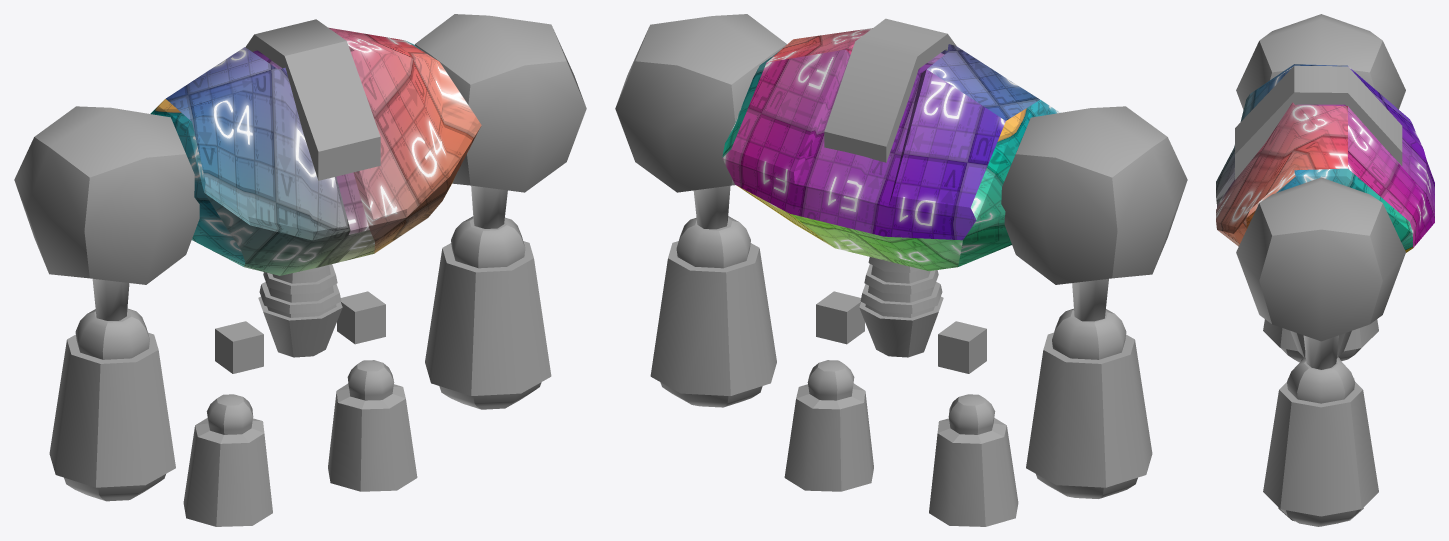
File: Robot-UVs-WIP-01.fbx
3 renders of one model, left to right at view 1: azimuth 30°, elevation 25°; view 2: azimuth 150°, elevation 25°; view 3: azimuth 270°, elevation 25°, orthographic. The views are drawn at different scales.
Parts seen in each view (by area): view 1: R_Shoulder (×2), Chest_Redo, Forearm (×2), R_Shin (×2), Head, Torso, Hip_Joint (×2); view 2: R_Shoulder (×2), Chest_Redo, Forearm (×2), R_Shin (×2), Head, Torso, Hip_Joint (×2); view 3: R_Shoulder (×2), Chest_Redo, Forearm (×2), Head, Torso.
Boxes of the visible parts, x1,y1,x2,y2 form: R_Shoulder (×2): (14, 14, 586, 320); Chest_Redo: (150, 27, 481, 275); Forearm (×2): (49, 216, 551, 501); R_Shin (×2): (183, 360, 417, 526); Head: (245, 19, 380, 180); Torso: (258, 264, 342, 357); Hip_Joint (×2): (215, 291, 385, 373); R_Shoulder (×2): (615, 14, 1187, 321); Chest_Redo: (722, 28, 1060, 270); Forearm (×2): (650, 216, 1152, 498); R_Shin (×2): (784, 360, 1018, 526); Head: (824, 18, 956, 162); Torso: (859, 257, 943, 357); Hip_Joint (×2): (816, 291, 986, 373); R_Shoulder (×2): (1236, 14, 1405, 369); Chest_Redo: (1216, 64, 1434, 252); Forearm (×2): (1263, 319, 1378, 526); Head: (1235, 65, 1402, 179); Torso: (1290, 331, 1351, 357).
Bounding box in the file's own units: 28.97 × 22.88 × 11.38.
2 materials, 1 textured.
